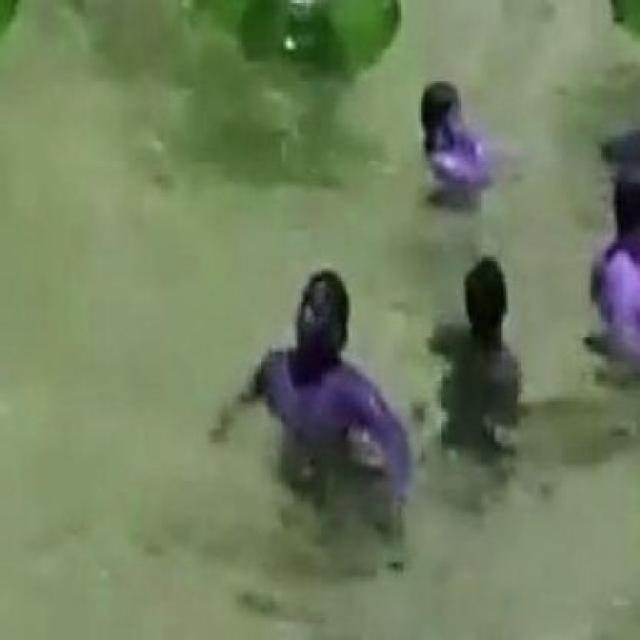drowning: (256, 264, 366, 481), (592, 145, 640, 360), (445, 256, 523, 384), (418, 81, 496, 192)
